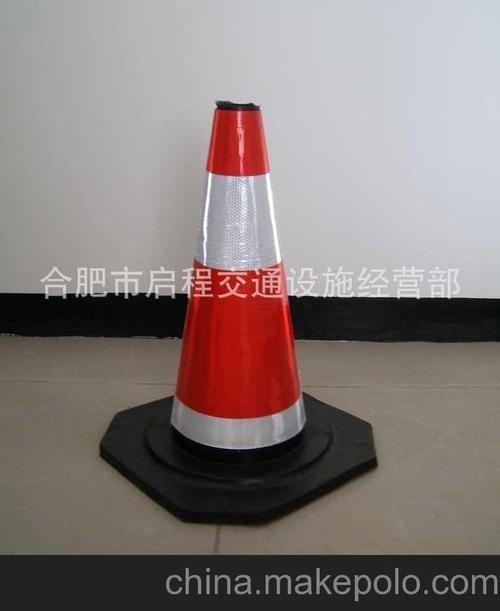cone_barrel: (153, 101, 314, 475)
